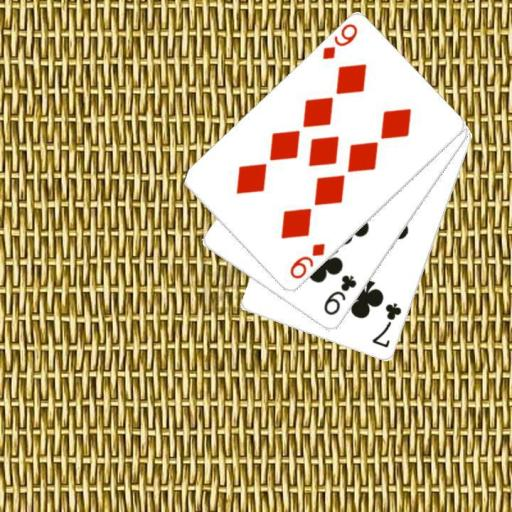7C: (369, 300, 403, 350)
9C: (320, 272, 358, 318)
9D: (287, 241, 327, 282), (319, 21, 359, 62)
